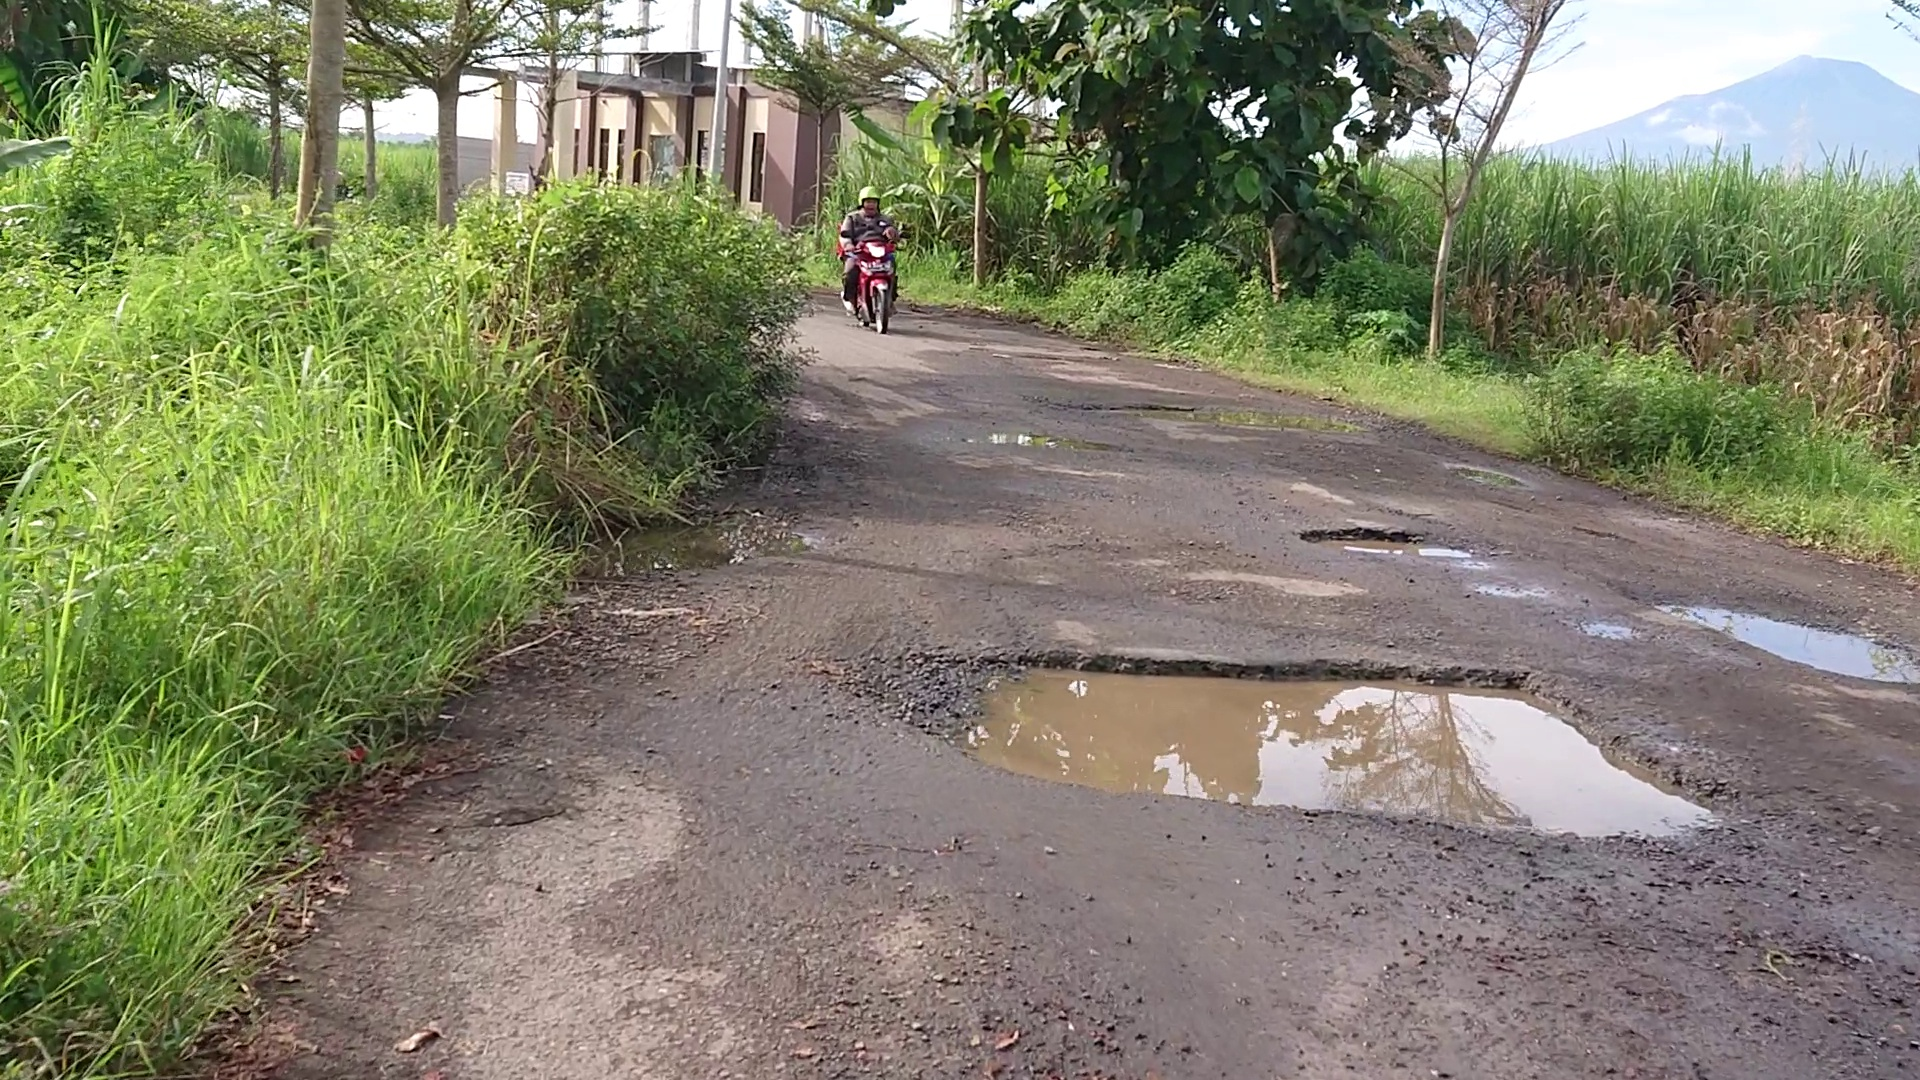Berlubang: (975, 684, 1691, 841), (1658, 592, 1879, 680), (1077, 401, 1327, 439), (1309, 527, 1477, 562)
